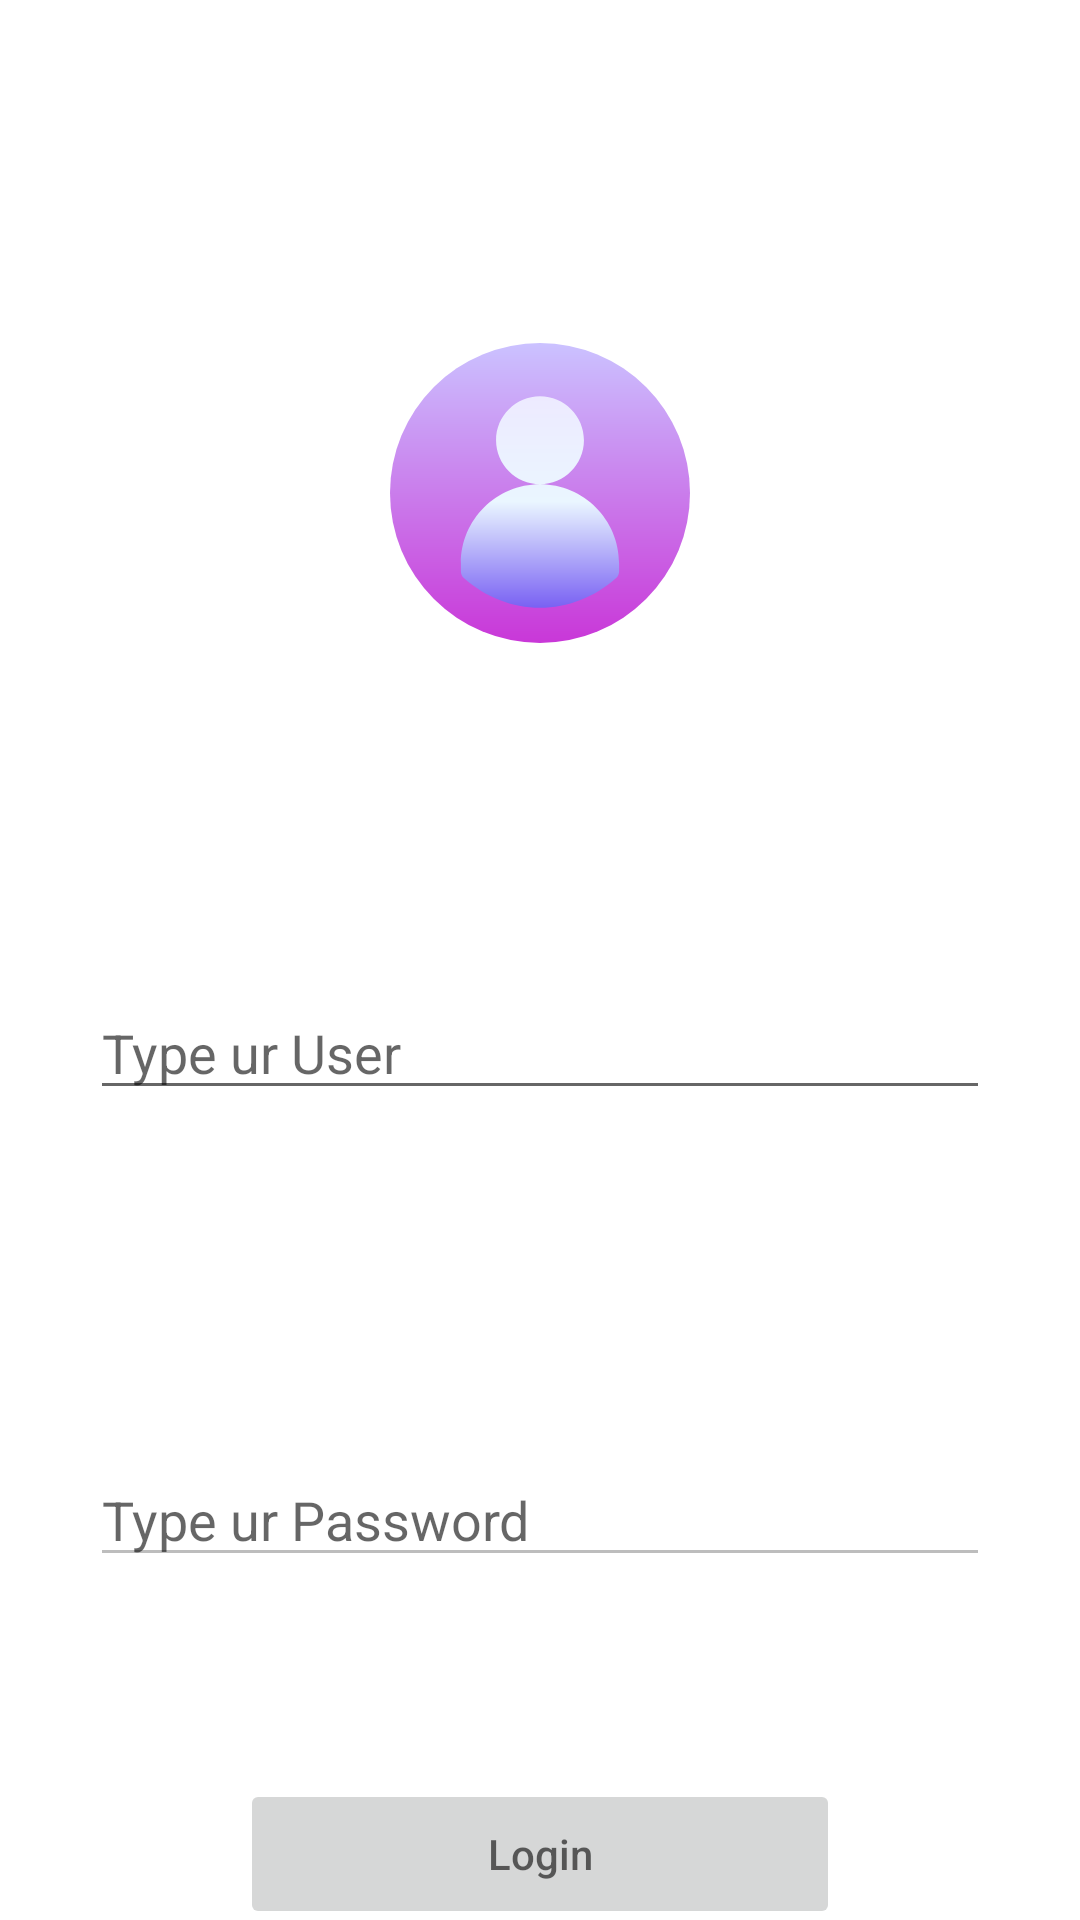

Icons on this 1080 × 1920 Android screen, each with its box as [x1=x1, y1=y1, x2=x2, y2=y2]:
user: [x1=390, y1=343, x2=690, y2=643]
